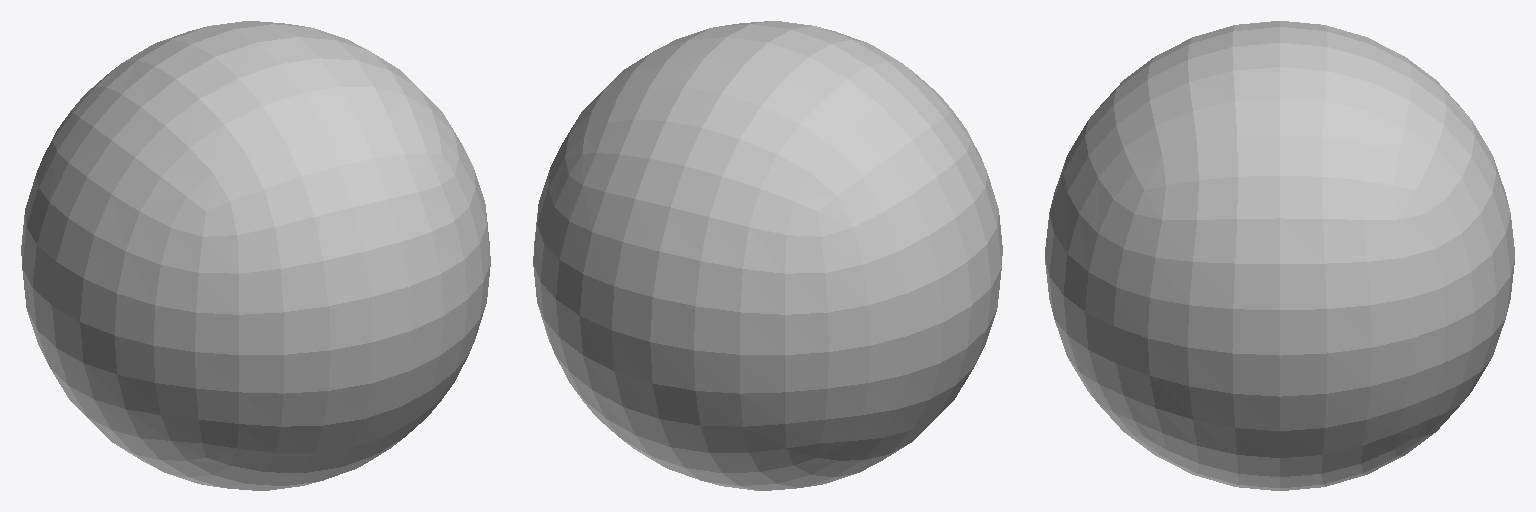
Rendered from ballSquaredUp.obj.
3 renders of one model, left to right at view 1: azimuth 30°, elevation 25°; view 2: azimuth 150°, elevation 25°; view 3: azimuth 270°, elevation 25°, orthographic.
Parts seen in each view (by area): view 1: Quad_Sphere; view 2: Quad_Sphere; view 3: Quad_Sphere.
Part boxes in pixels (left/top/right/bottom): Quad_Sphere: left=21, top=21, right=490, bottom=490; Quad_Sphere: left=533, top=21, right=1002, bottom=490; Quad_Sphere: left=1045, top=21, right=1514, bottom=490.
Size of the model in its own units: 2.57 by 2.57 by 2.57.